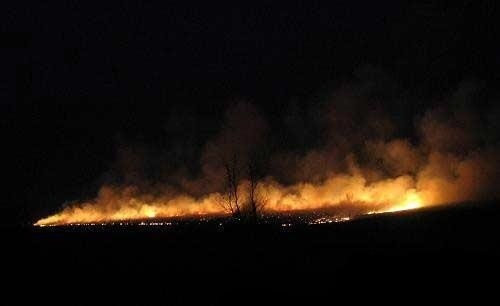fire: (16, 161, 465, 218)
